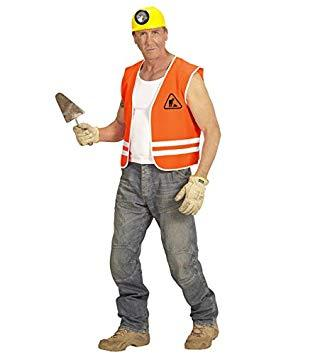helmet: (128, 8, 167, 33)
